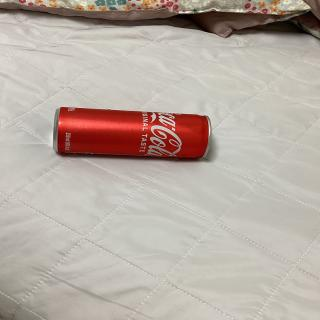cocacola: (48, 102, 220, 166)
